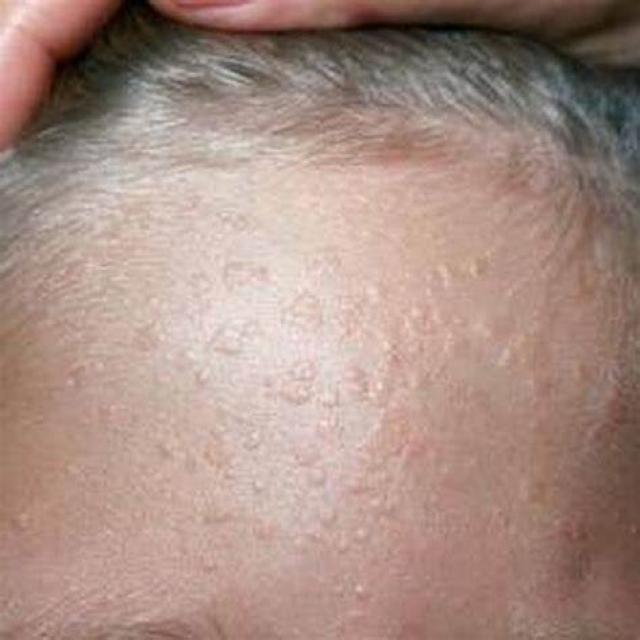fungal: (5, 200, 609, 640)
